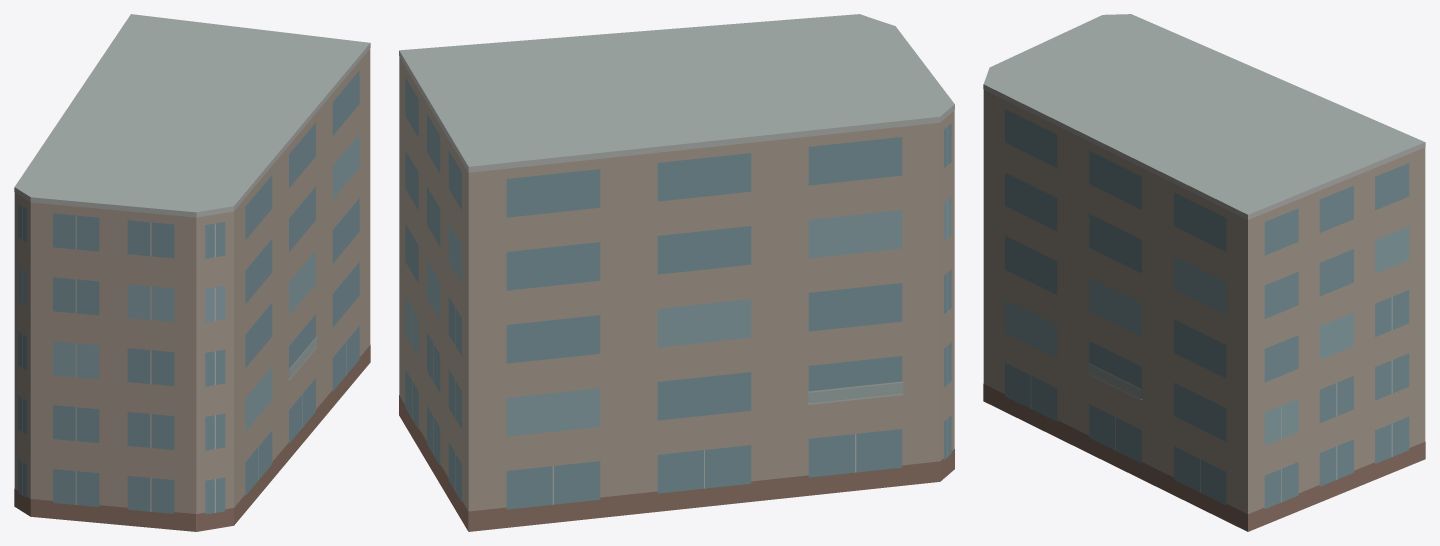
File: survey-upis-32996471.glb
3 views of the same model, side by side, from view 1: azimuth 30°, elevation 25°; view 2: azimuth 150°, elevation 25°; view 3: azimuth 270°, elevation 25° (orthographic). The views are drawn at different scales.
Parts seen in each view (by area): view 1: survey-upis-32996471.tmp; view 2: survey-upis-32996471.tmp; view 3: survey-upis-32996471.tmp.
Part boxes in pixels (bbox=[...]): survey-upis-32996471.tmp: bbox=[14, 14, 370, 531]; survey-upis-32996471.tmp: bbox=[399, 14, 954, 531]; survey-upis-32996471.tmp: bbox=[983, 14, 1425, 531].
Size of the model in its own units: 20.32 by 14.95 by 18.89.
